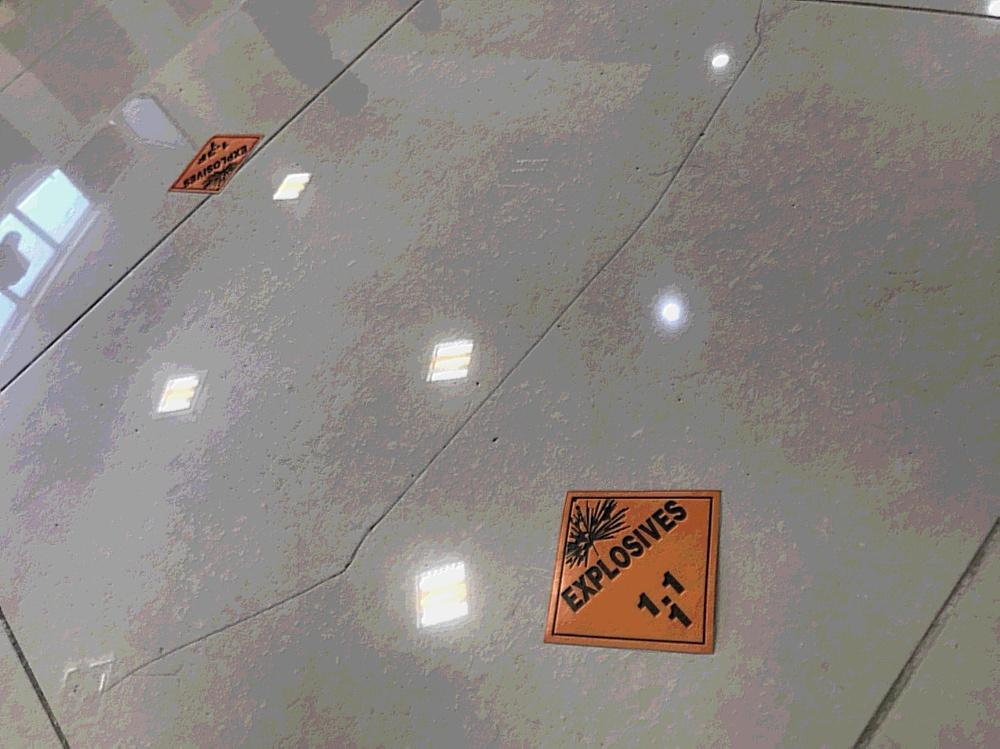explosive: (543, 492, 722, 656), (170, 136, 264, 195)
